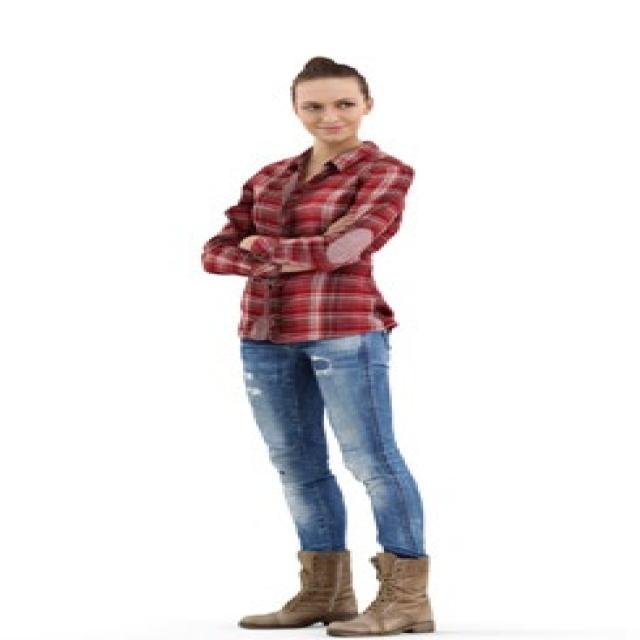standing: (194, 56, 443, 634)
